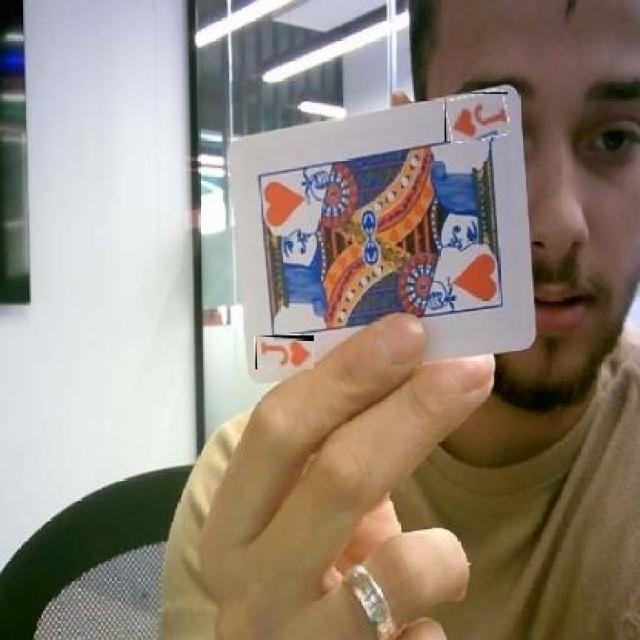JH: (444, 92, 508, 142), (255, 336, 314, 370)
